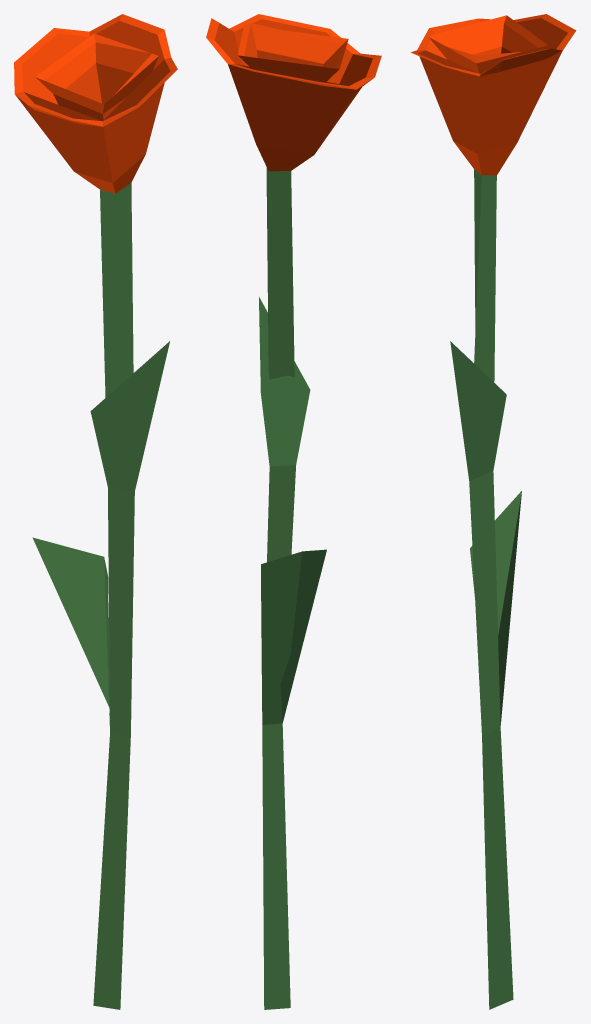
The model's file is flowertulipan05.gltf.
3 renders of one model, left to right at view 1: azimuth 30°, elevation 25°; view 2: azimuth 150°, elevation 25°; view 3: azimuth 270°, elevation 25°, orthographic.
Visible parts, largest first — view 1: Icosphere; view 2: Icosphere; view 3: Icosphere.
Boxes of the visible parts, <box> form: Icosphere: <box>14,14,177,1009</box>; Icosphere: <box>206,14,381,1009</box>; Icosphere: <box>411,14,576,1009</box>.
Size of the model in its own units: 0.0979 by 0.6094 by 0.0938.
1 material, 1 textured.
